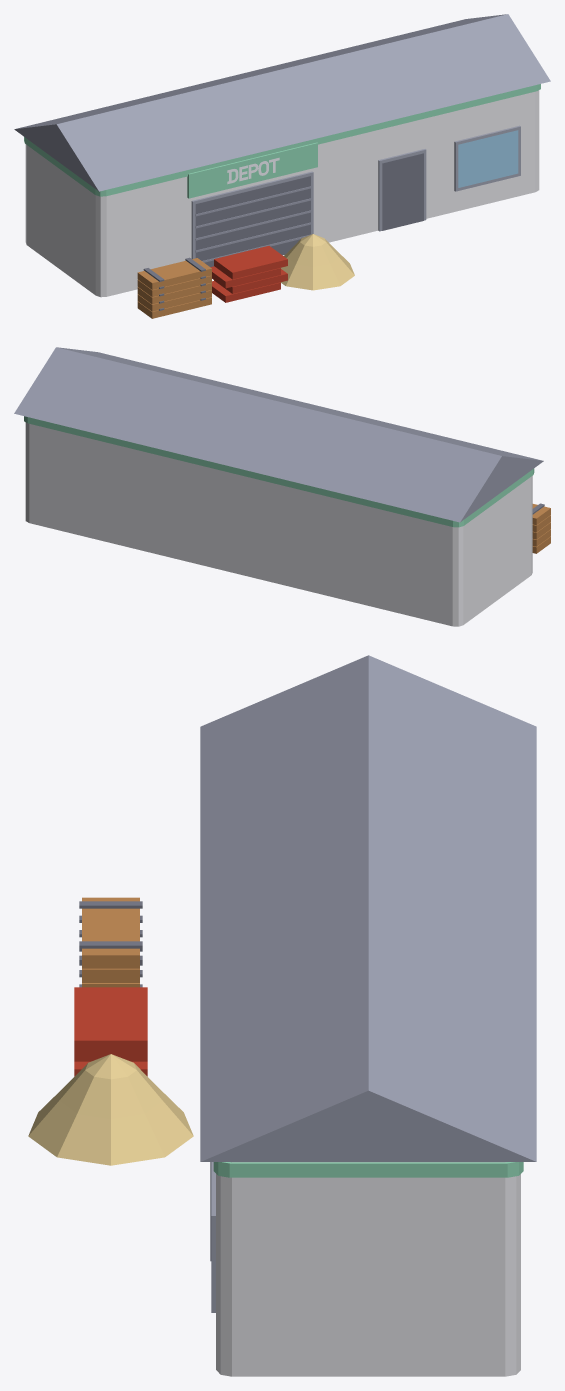
Rendered from depot-2x1-t3-tone-a.glb.
3 views of the same model, one above another, from view 1: azimuth 30°, elevation 25°; view 2: azimuth 150°, elevation 25°; view 3: azimuth 270°, elevation 25° (orthographic). The views are drawn at different scales.
Parts seen in each view (by area): view 1: depot-2x1-t3-tone-a; view 2: depot-2x1-t3-tone-a; view 3: depot-2x1-t3-tone-a.
Part boxes in pixels (<box>): depot-2x1-t3-tone-a: <box>14,14,550,318</box>; depot-2x1-t3-tone-a: <box>14,347,550,626</box>; depot-2x1-t3-tone-a: <box>28,655,536,1376</box>.
Size of the model in its own units: 1.96 by 0.61 by 0.9676.
1 material, 1 textured.
